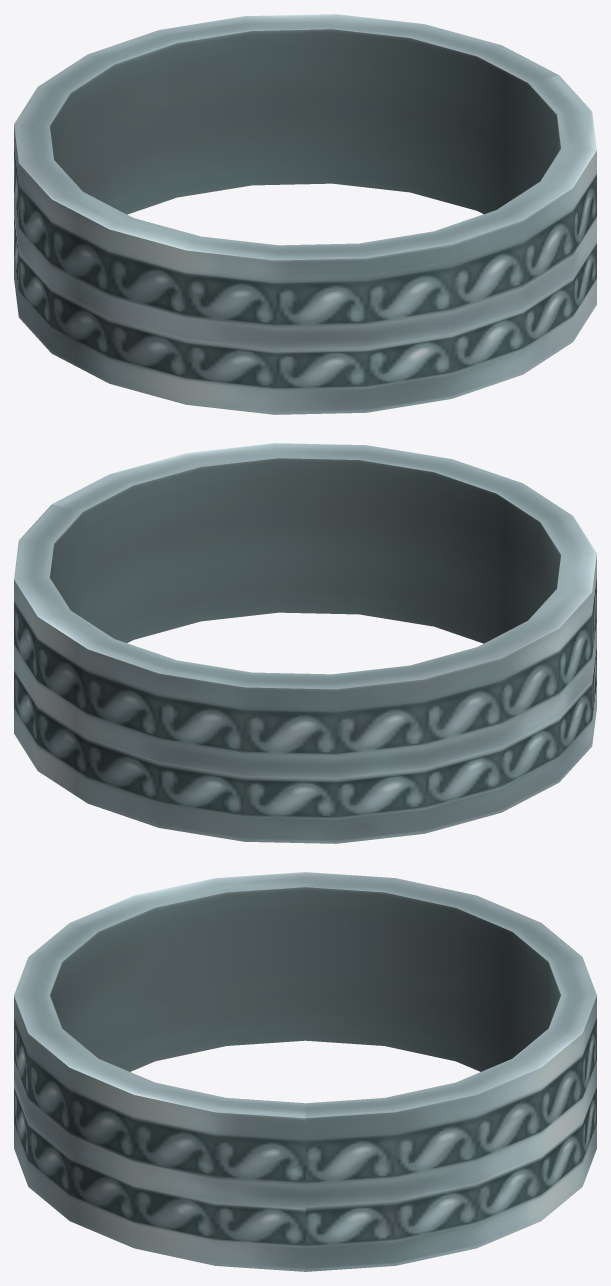
Rendered from ring_silver_13.fbx.
The picture shows the model from 3 angles, top to bottom: view 1: azimuth 30°, elevation 25°; view 2: azimuth 150°, elevation 25°; view 3: azimuth 270°, elevation 25°; orthographic projection.
Parts seen in each view (by area): view 1: ring_silver_13; view 2: ring_silver_13; view 3: ring_silver_13.
Boxes of the visible parts, x1,y1,x2,y2 form: ring_silver_13: [14, 14, 596, 414]; ring_silver_13: [14, 443, 596, 843]; ring_silver_13: [14, 872, 596, 1271].
Bounding box in the file's own units: 2.04 × 0.594 × 2.04.
